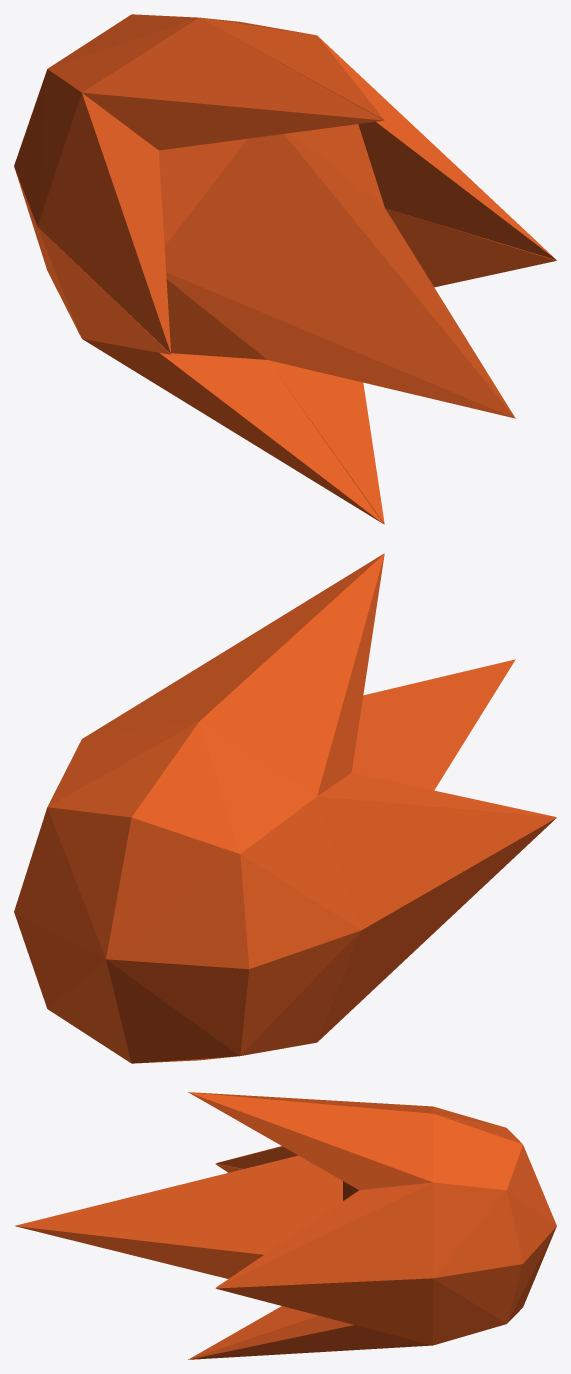
The model's file is fireball.dae.
3 renders of one model, top to bottom at view 1: azimuth 30°, elevation 25°; view 2: azimuth 150°, elevation 25°; view 3: azimuth 270°, elevation 25°, orthographic. The views are drawn at different scales.
Visible parts, largest first — view 1: Cube; view 2: Cube; view 3: Cube.
Part boxes in pixels (x1=…): Cube: x1=14, y1=14, x2=556, y2=524; Cube: x1=14, y1=553, x2=556, y2=1063; Cube: x1=15, y1=1092, x2=556, y2=1359.
Bounding box in the file's own units: 2 × 3.68 × 2.
